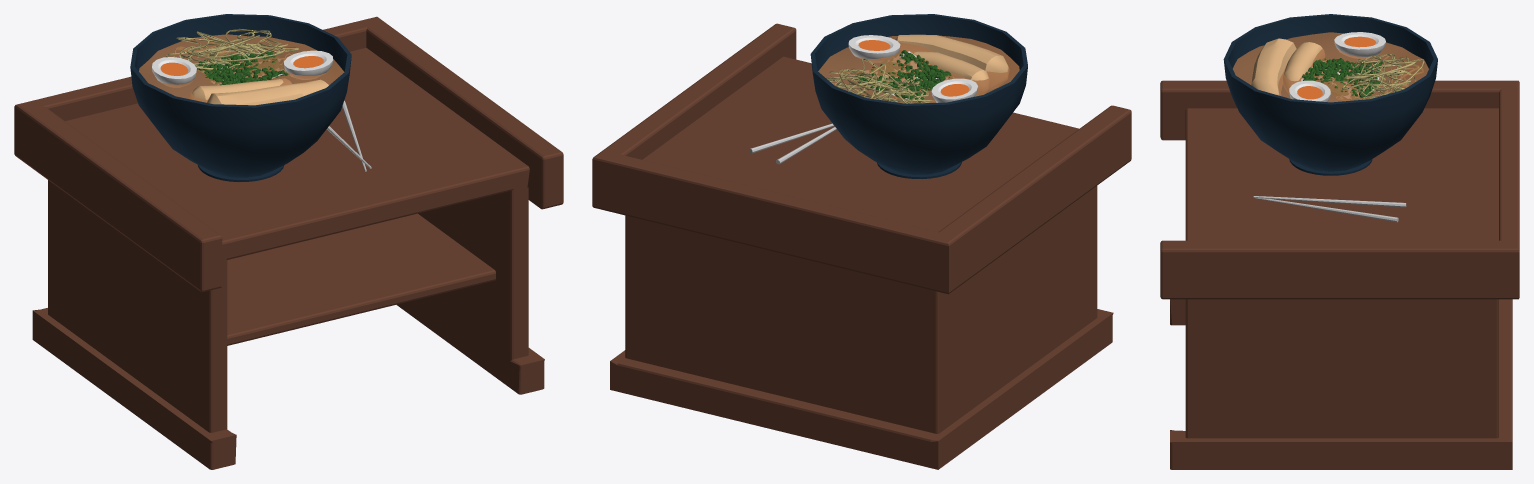
The model's file is Ramencito+Taula (1).fbx.
The picture shows the model from 3 angles, left to right: view 1: azimuth 30°, elevation 25°; view 2: azimuth 150°, elevation 25°; view 3: azimuth 270°, elevation 25°; orthographic projection. The views are drawn at different scales.
Visible parts, largest first — view 1: Mesa, Bol, Caldo, Fideos, Chicha, Huevo, Huevo.001, Chicha.001; view 2: Mesa, Bol, Caldo, Chicha, Fideos, Chicha.001, Huevo, Huevo.001; view 3: Mesa, Bol, Caldo, Fideos, Chicha, Huevo.001, Chicha.001, Huevo, Palillos, Pallilos.
Part boxes in pixels (x1=…): Mesa: x1=14, y1=16, x2=563, y2=469; Bol: x1=130, y1=14, x2=351, y2=182; Caldo: x1=139, y1=34, x2=344, y2=102; Fideos: x1=165, y1=28, x2=299, y2=69; Chicha: x1=207, y1=79, x2=328, y2=105; Huevo: x1=284, y1=50, x2=333, y2=79; Huevo.001: x1=152, y1=57, x2=196, y2=86; Chicha.001: x1=190, y1=79, x2=291, y2=101; Mesa: x1=592, y1=23, x2=1131, y2=469; Bol: x1=810, y1=14, x2=1027, y2=178; Caldo: x1=818, y1=35, x2=1019, y2=103; Chicha: x1=895, y1=34, x2=1008, y2=88; Fideos: x1=826, y1=58, x2=934, y2=103; Chicha.001: x1=911, y1=51, x2=990, y2=95; Huevo: x1=848, y1=35, x2=900, y2=61; Huevo.001: x1=931, y1=78, x2=978, y2=102; Mesa: x1=1160, y1=80, x2=1519, y2=469; Bol: x1=1223, y1=14, x2=1437, y2=175; Caldo: x1=1233, y1=32, x2=1428, y2=102; Fideos: x1=1336, y1=53, x2=1424, y2=100; Chicha: x1=1251, y1=38, x2=1296, y2=95; Huevo.001: x1=1334, y1=32, x2=1385, y2=57; Chicha.001: x1=1283, y1=42, x2=1324, y2=93; Huevo: x1=1289, y1=80, x2=1330, y2=101; Palillos: x1=1253, y1=196, x2=1406, y2=207; Pallilos: x1=1255, y1=198, x2=1398, y2=222.
Bounding box in the file's own units: 454 × 384 × 406.
